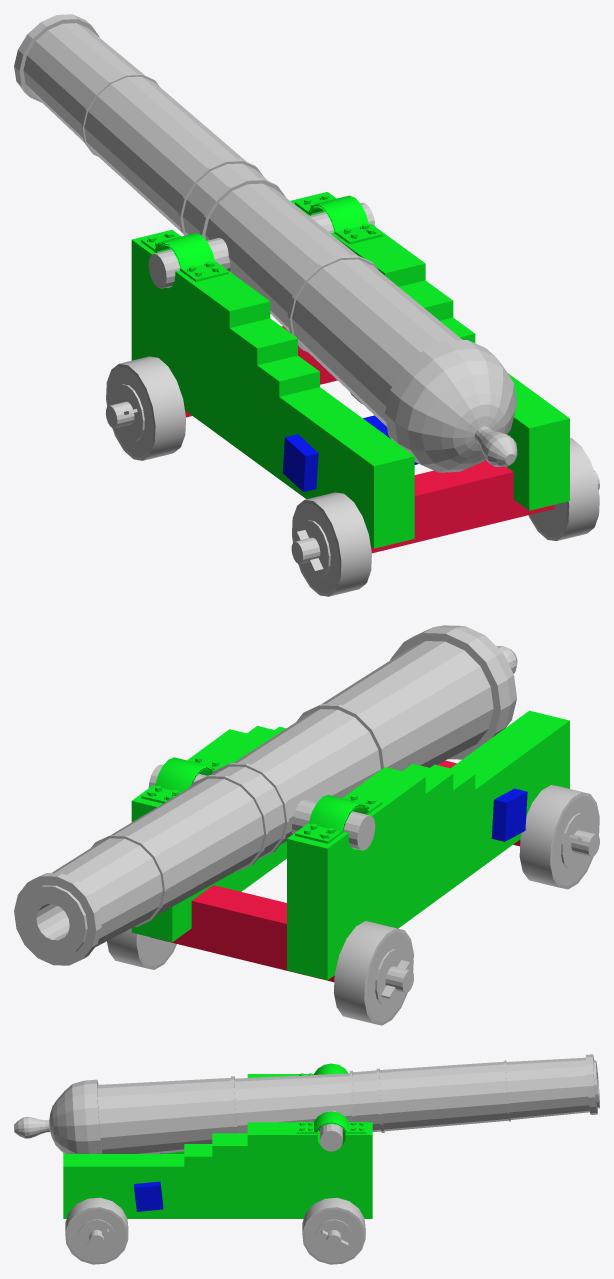
The model's file is Gun.fbx.
The picture shows the model from 3 angles, top to bottom: view 1: azimuth 30°, elevation 25°; view 2: azimuth 150°, elevation 25°; view 3: azimuth 270°, elevation 25°; orthographic projection. The views are drawn at different scales.
Parts seen in each view (by area): view 1: Gun, Base, Wheel; view 2: Gun, Base, Wheel; view 3: Gun, Base, Wheel.
Part boxes in pixels (<box>): Gun: <box>14,14,517,472</box>; Base: <box>131,192,569,553</box>; Wheel: <box>105,356,599,596</box>; Gun: <box>14,625,517,965</box>; Base: <box>131,710,569,982</box>; Wheel: <box>107,785,599,1025</box>; Gun: <box>14,1054,599,1153</box>; Base: <box>63,1063,372,1218</box>; Wheel: <box>65,1197,365,1264</box>.
Size of the model in its own units: 854 by 2287 by 721.
